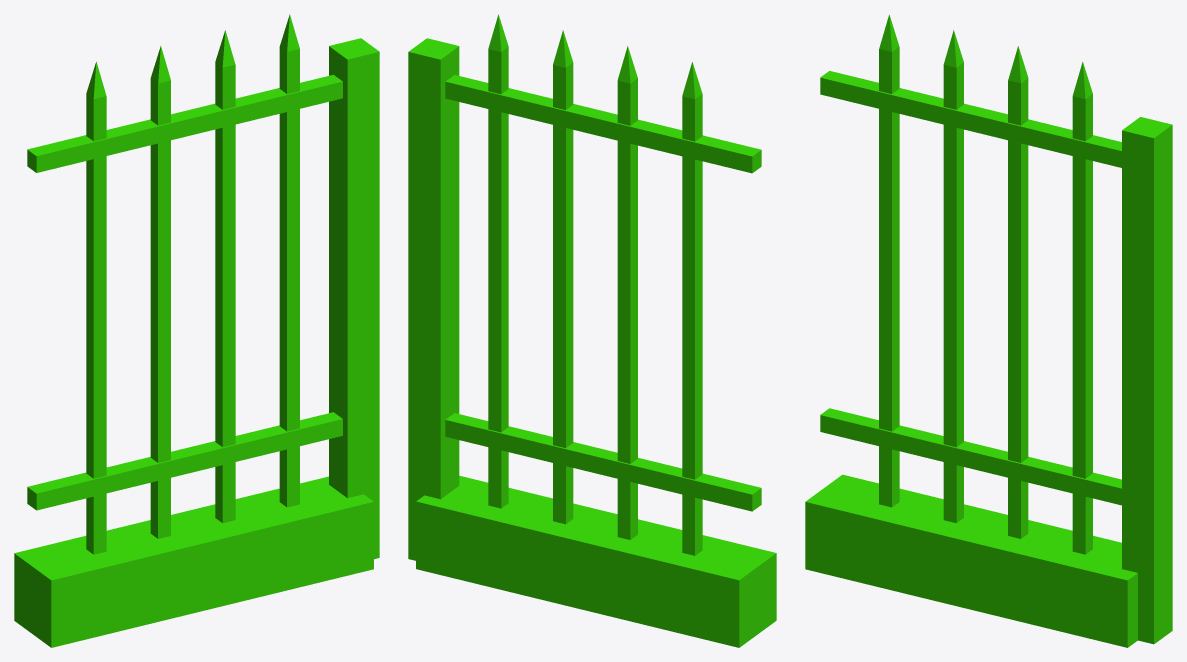
The model's file is fence2_08.fbx.
3 views of the same model, side by side, from view 1: azimuth 30°, elevation 25°; view 2: azimuth 150°, elevation 25°; view 3: azimuth 330°, elevation 25° (orthographic).
Visible parts, largest first — view 1: fence2_08; view 2: fence2_08; view 3: fence2_08.
Boxes of the visible parts, x1,y1,x2,y2 form: fence2_08: (14, 14, 379, 647); fence2_08: (408, 14, 776, 647); fence2_08: (805, 14, 1172, 647).
Size of the model in its own units: 105 by 165 by 20.
